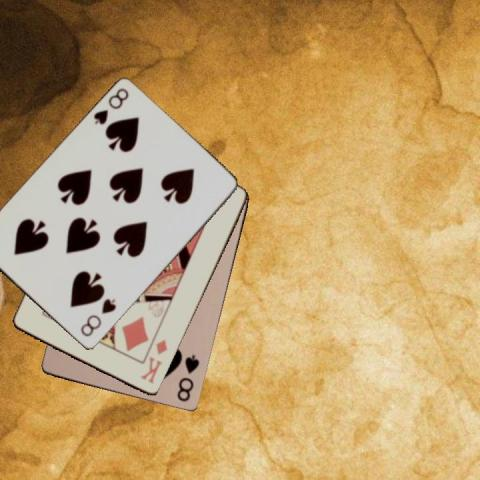8s: (77, 295, 118, 339), (90, 85, 131, 127), (174, 352, 201, 403)
Kd: (138, 337, 169, 385)
